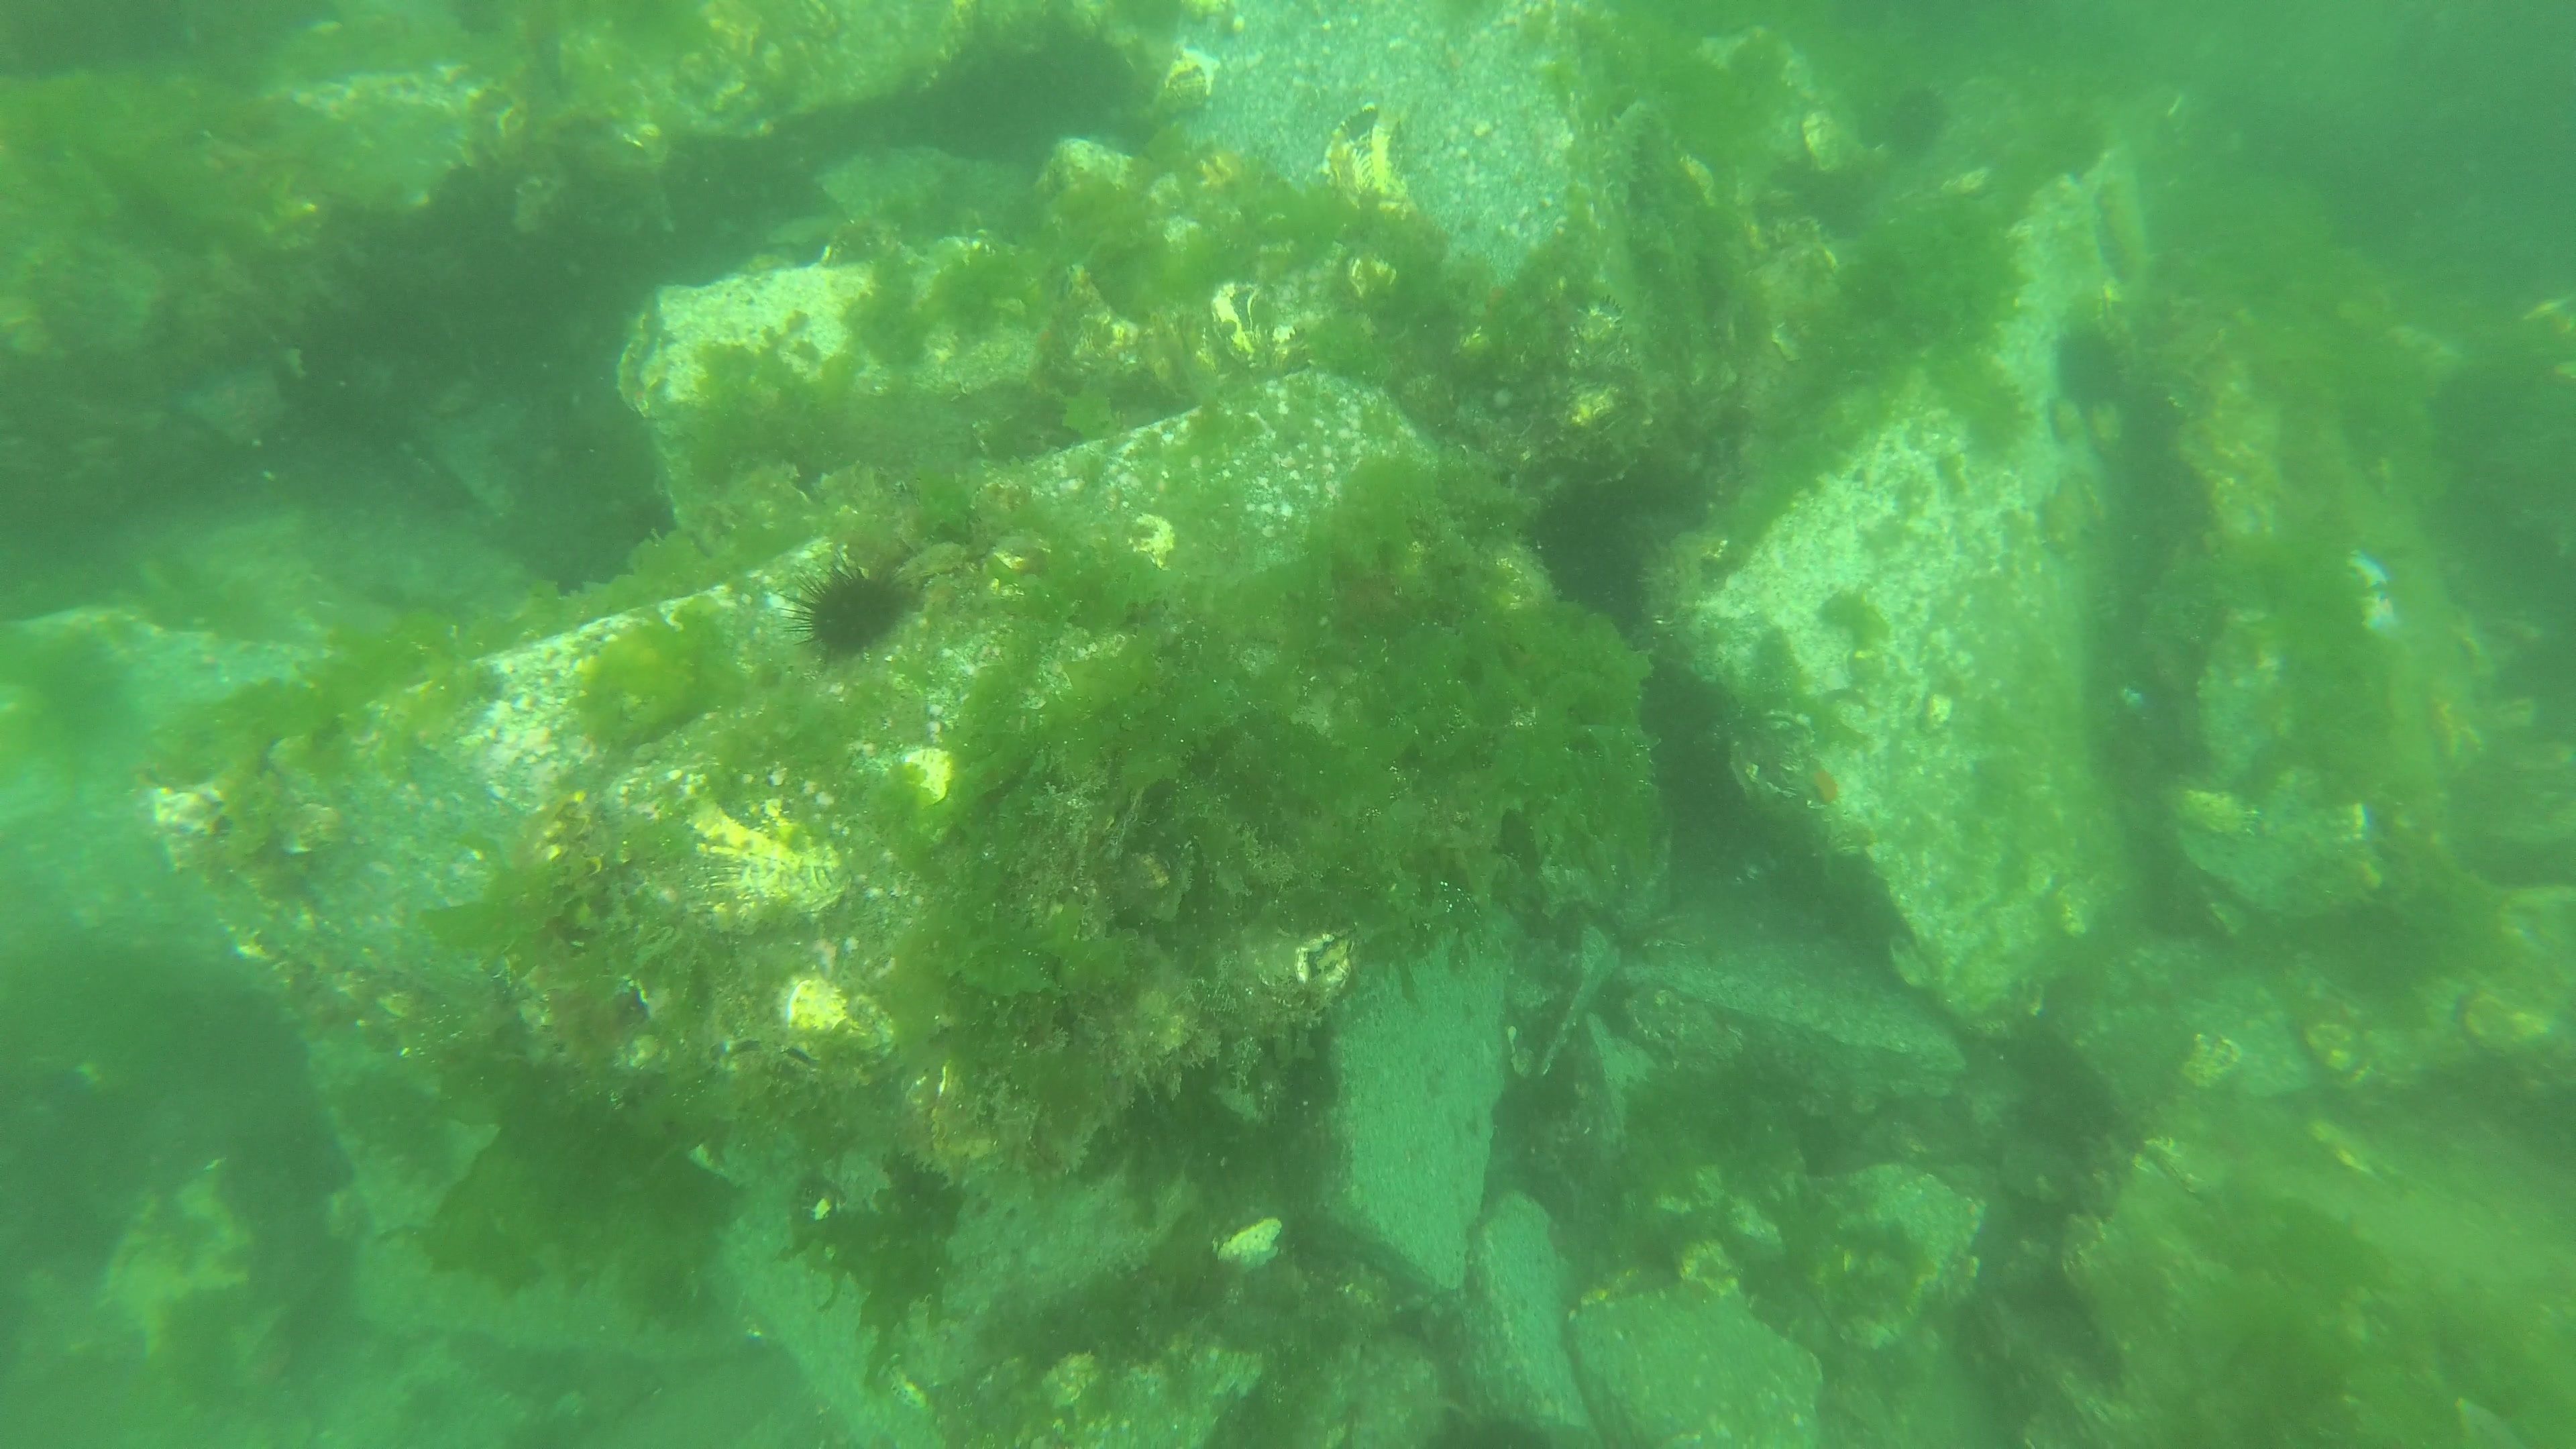echinus: (778, 538, 929, 674), (2054, 326, 2134, 409), (1877, 83, 1953, 157)
starfish: (2335, 545, 2406, 644)
